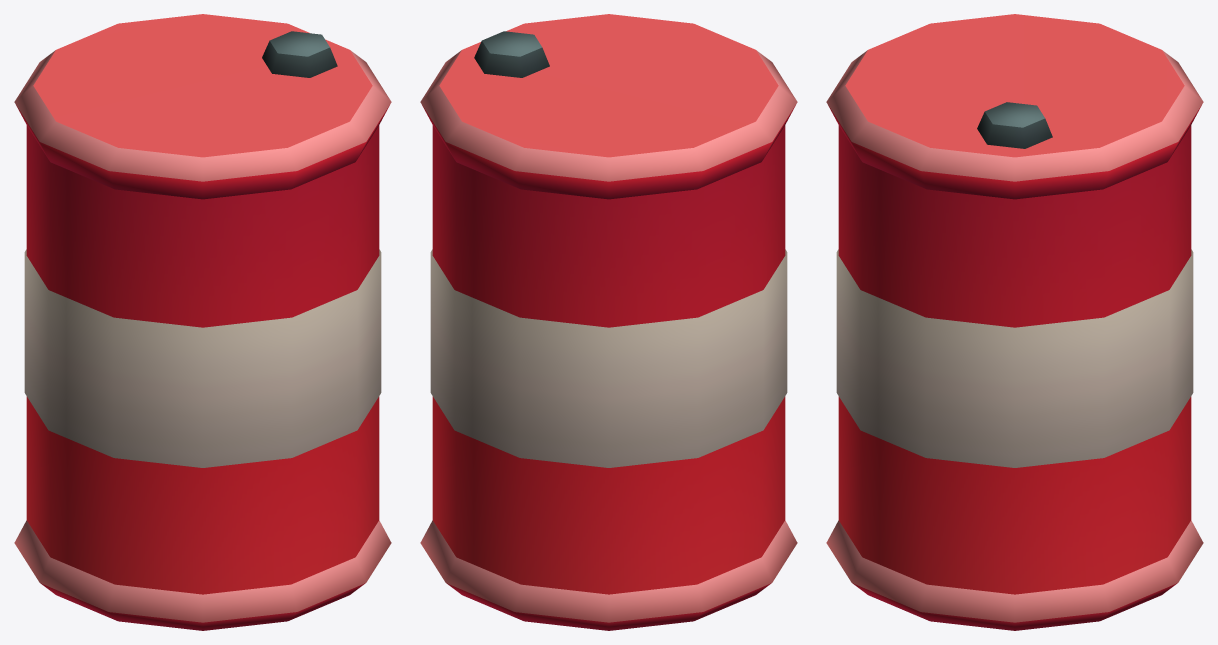
Rendered from Barrel_1A.fbx.
3 views of the same model, side by side, from view 1: azimuth 30°, elevation 25°; view 2: azimuth 150°, elevation 25°; view 3: azimuth 270°, elevation 25° (orthographic).
Parts seen in each view (by area): view 1: Barrel_1A; view 2: Barrel_1A; view 3: Barrel_1A.
Boxes of the visible parts, x1,y1,x2,y2 form: Barrel_1A: (14,14,391,630); Barrel_1A: (420,14,797,630); Barrel_1A: (826,14,1203,630).
Bounding box in the file's own units: 86.64 × 125 × 86.64.
